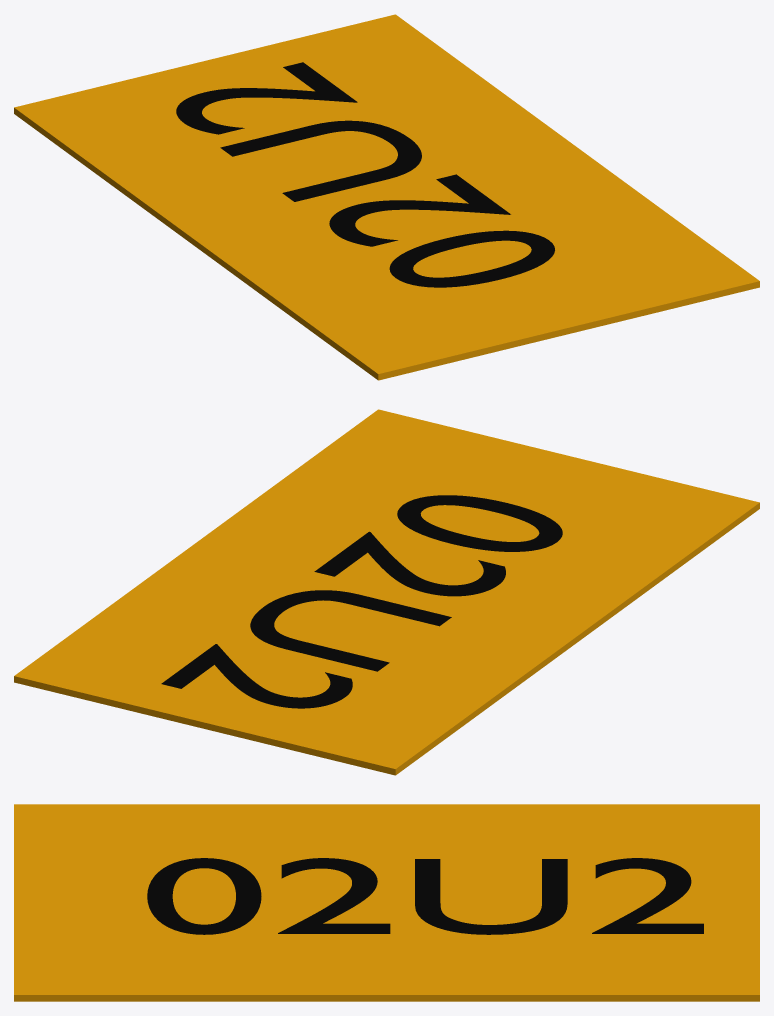
The picture shows the model from 3 angles, top to bottom: view 1: azimuth 30°, elevation 25°; view 2: azimuth 150°, elevation 25°; view 3: azimuth 270°, elevation 25°; orthographic projection. The views are drawn at different scales.
Visible parts, largest first — view 1: Plane, Text.001; view 2: Plane, Text.001; view 3: Plane, Text.001.
Boxes of the visible parts, <box> form: Plane: <box>14,14,759,380</box>; Text.001: <box>176,62,554,287</box>; Plane: <box>14,409,759,775</box>; Text.001: <box>161,495,562,708</box>; Plane: <box>14,804,759,1001</box>; Text.001: <box>147,858,703,934</box>.
Size of the model in its own units: 194 by 3.74 by 320.
